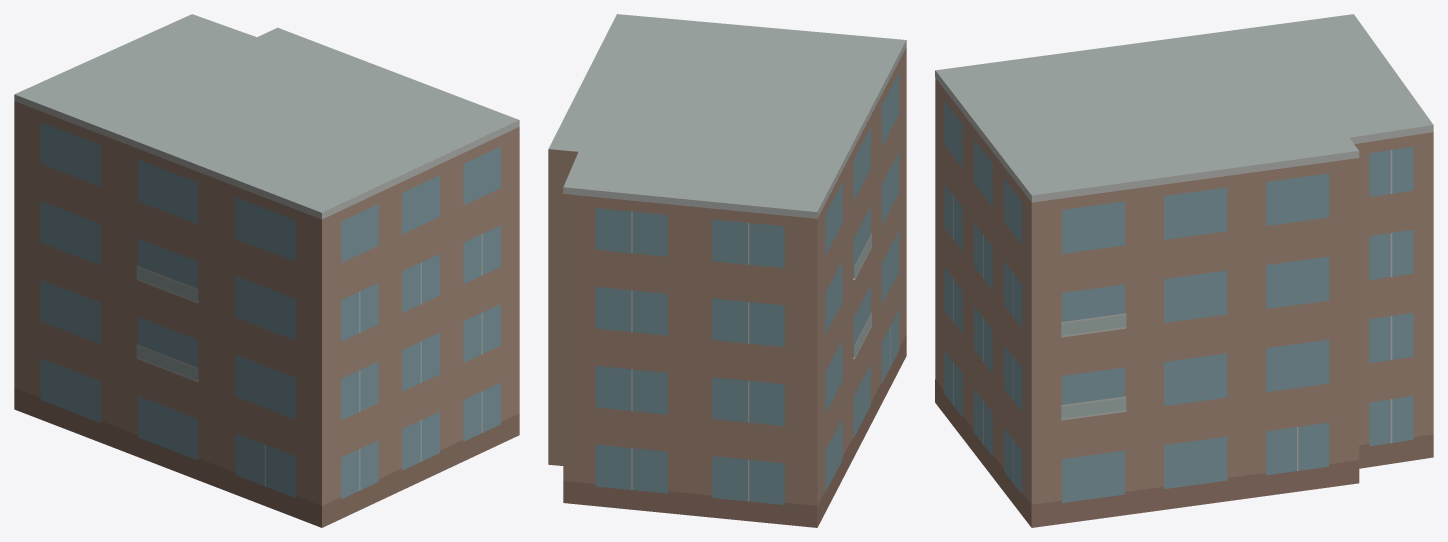
File: survey-upis-32771204.glb
3 views of the same model, side by side, from view 1: azimuth 30°, elevation 25°; view 2: azimuth 150°, elevation 25°; view 3: azimuth 270°, elevation 25° (orthographic). The views are drawn at different scales.
Visible parts, largest first — view 1: survey-upis-32771204.tmp; view 2: survey-upis-32771204.tmp; view 3: survey-upis-32771204.tmp.
Boxes of the visible parts, <box> form: survey-upis-32771204.tmp: <box>14,14,519,527</box>; survey-upis-32771204.tmp: <box>548,14,906,527</box>; survey-upis-32771204.tmp: <box>935,14,1433,527</box>.
Size of the model in its own units: 13.48 by 11.5 by 15.64.
